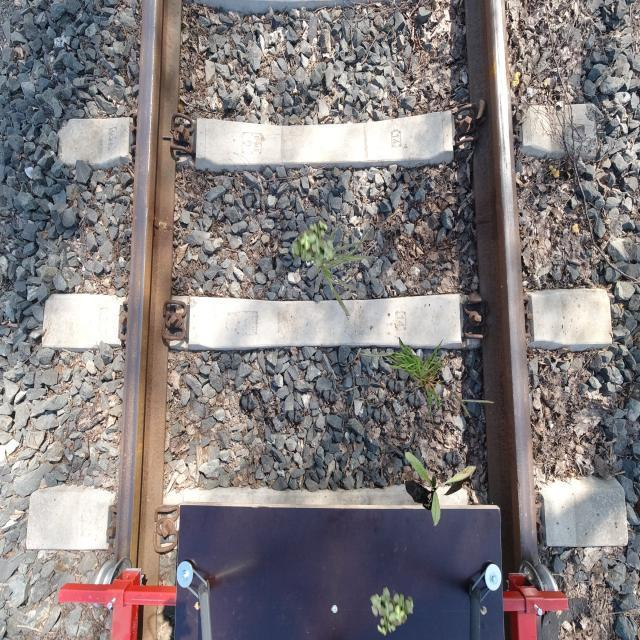Plant: (351, 337, 494, 427), (305, 223, 378, 316), (405, 452, 477, 526), (370, 587, 413, 637), (291, 219, 334, 269)
